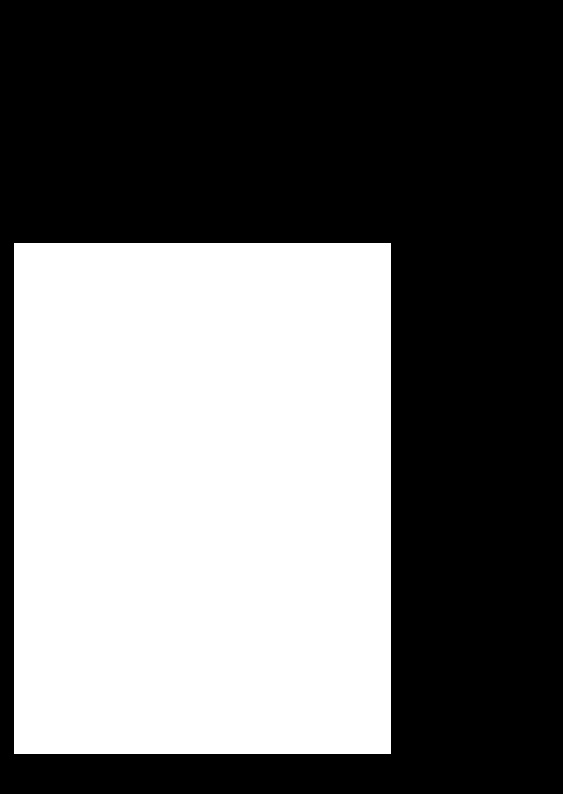table: (14, 243, 390, 753)
